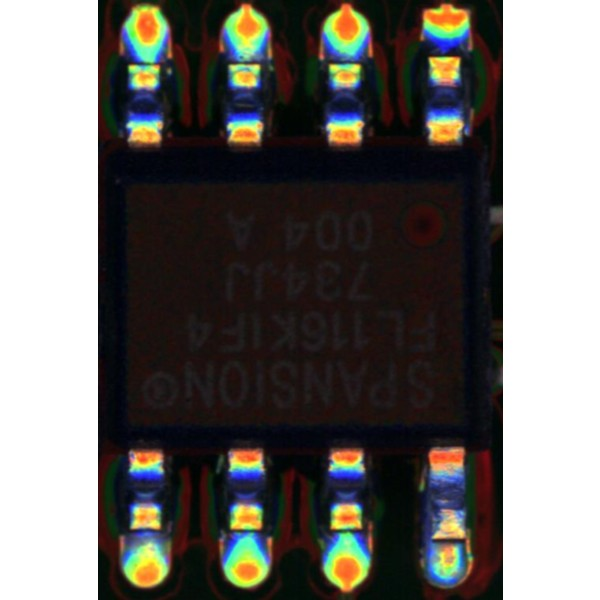Bad_podu: (441, 527, 457, 564)
